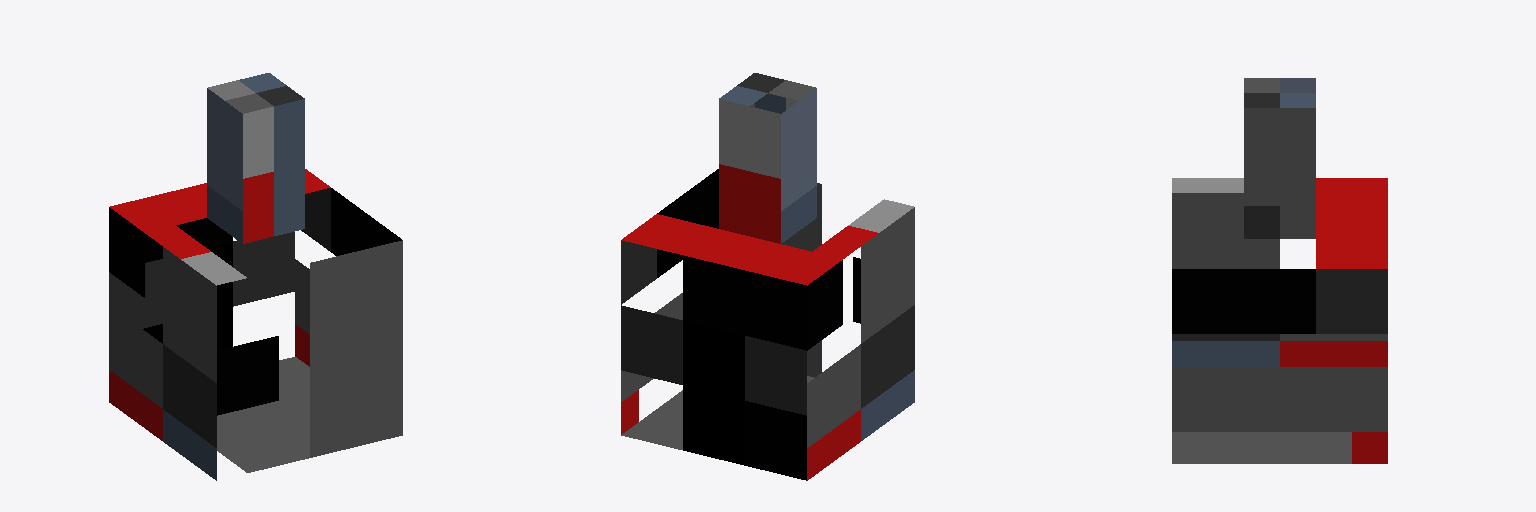
3 views of the same model, side by side, from view 1: azimuth 30°, elevation 25°; view 2: azimuth 150°, elevation 25°; view 3: azimuth 270°, elevation 25° (orthographic).
Parts seen in each view (by area): view 1: cube; view 2: cube; view 3: cube.
Part boxes in pixels (x1,y1,x2,y2): cube: (109, 73, 402, 480); cube: (621, 73, 914, 480); cube: (1172, 78, 1387, 463).
Bounding box in the file's own units: 0.1875 × 0.3125 × 0.1875.
1 materials, 1 textured.